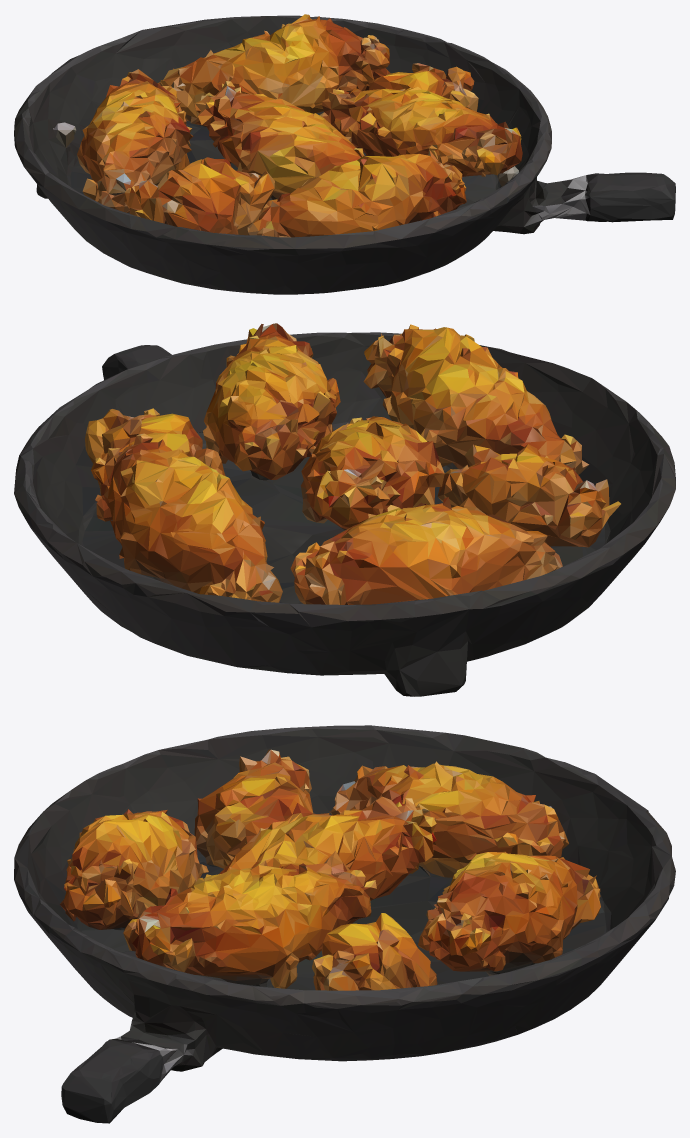
File: wings_pan.glb
3 views of the same model, one above another, from view 1: azimuth 30°, elevation 25°; view 2: azimuth 150°, elevation 25°; view 3: azimuth 270°, elevation 25° (orthographic). The views are drawn at different scales.
Visible parts, largest first — view 1: geometry_0; view 2: geometry_0; view 3: geometry_0.
Boxes of the visible parts, box(x1,y1,x2,y2) form: geometry_0: box(14, 14, 675, 294); geometry_0: box(14, 323, 675, 696); geometry_0: box(14, 725, 675, 1123).
Size of the model in its own units: 0.28 by 0.0635 by 0.2515.
1 material, 1 textured.
